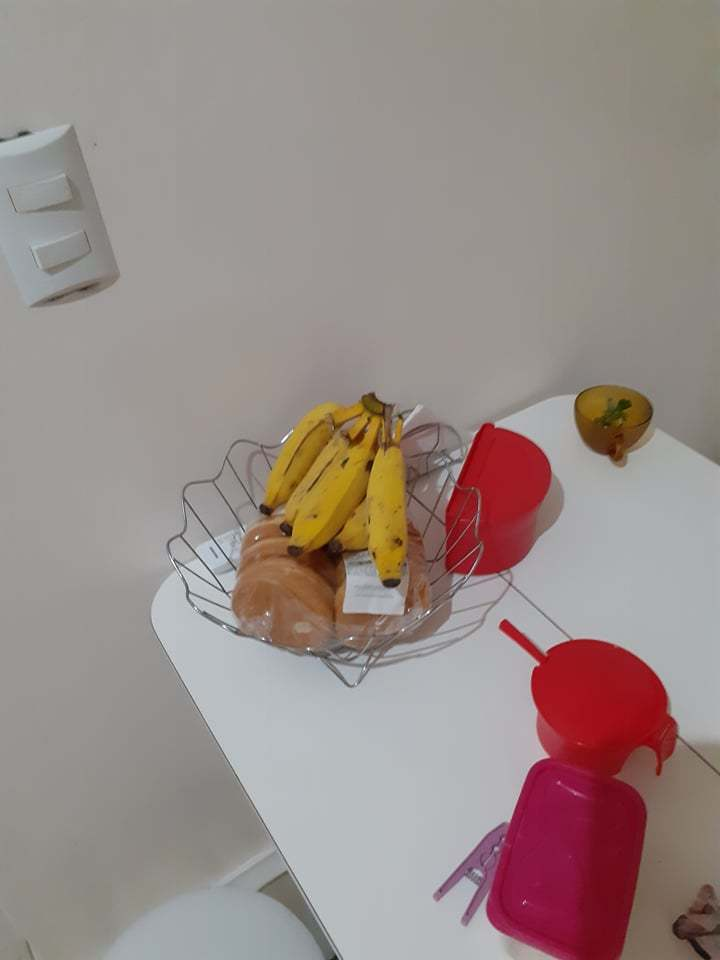banana: (261, 406, 430, 593)
